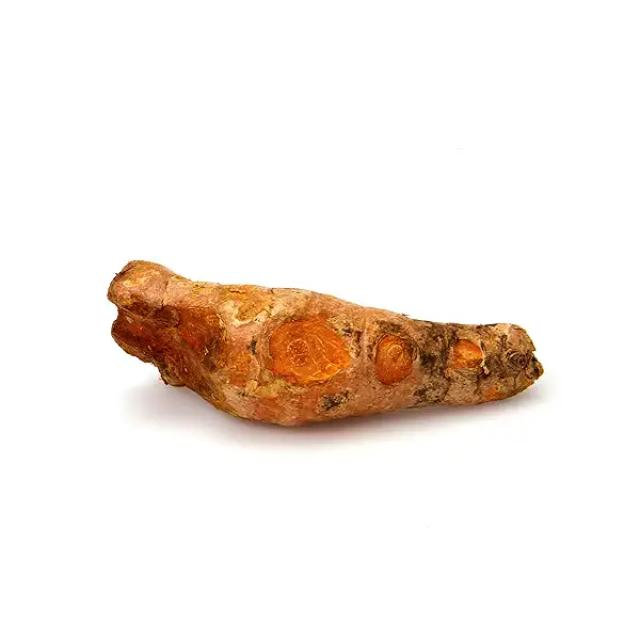turmeric: (99, 241, 567, 455)
